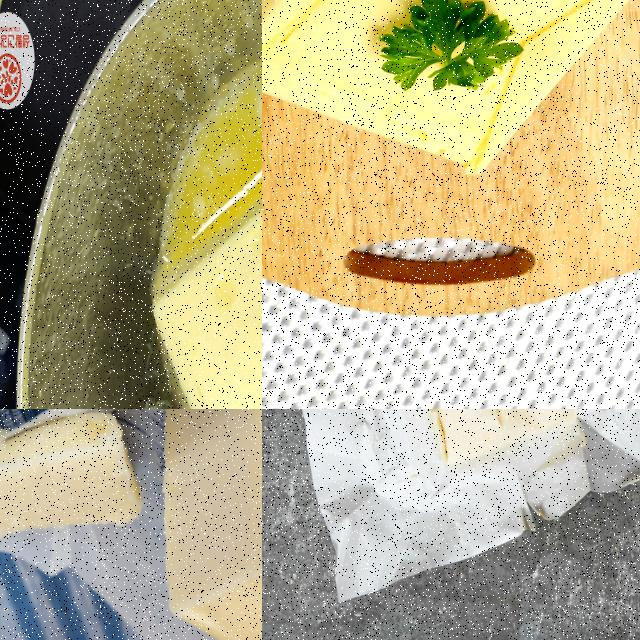butter: (262, 0, 639, 181), (151, 112, 261, 408), (161, 409, 261, 639), (0, 411, 143, 537), (388, 409, 584, 471)
